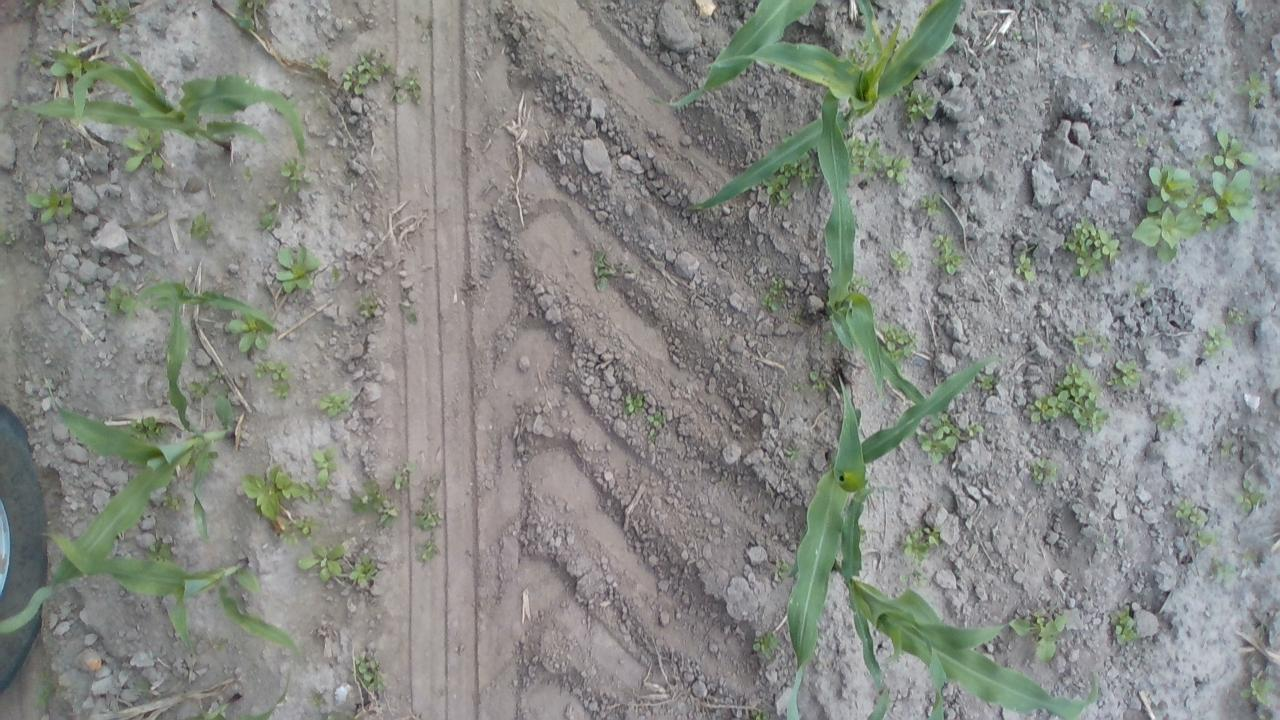Maize: (786, 358, 1010, 720), (1, 298, 234, 631), (685, 0, 962, 206), (828, 558, 1098, 720), (820, 83, 929, 410), (0, 47, 308, 160), (34, 530, 302, 658), (645, 0, 857, 110), (820, 624, 949, 720), (123, 281, 277, 329), (167, 666, 290, 720)
Weeds: (1131, 164, 1206, 264), (1026, 363, 1110, 435), (1060, 216, 1122, 278), (1206, 169, 1255, 232), (1009, 611, 1067, 663), (917, 414, 960, 466), (266, 464, 318, 503), (276, 246, 320, 292), (122, 127, 165, 174), (342, 52, 389, 94), (25, 184, 74, 224), (296, 544, 346, 582), (1212, 128, 1258, 169), (842, 134, 883, 178), (881, 324, 917, 374), (241, 474, 279, 520), (900, 526, 946, 564), (230, 312, 272, 351), (278, 515, 322, 547), (350, 476, 386, 514), (932, 232, 962, 276), (1235, 72, 1269, 110), (278, 158, 312, 194), (354, 654, 386, 692), (52, 42, 84, 80), (104, 282, 138, 317), (92, 0, 130, 31), (124, 417, 173, 441), (311, 447, 338, 490), (902, 90, 936, 124), (1110, 604, 1138, 644), (32, 670, 58, 712), (143, 532, 176, 564), (1202, 324, 1231, 360), (1107, 360, 1141, 390), (1234, 479, 1264, 513), (761, 173, 791, 207), (1071, 330, 1109, 356), (414, 498, 443, 532), (1175, 500, 1208, 529), (1241, 677, 1274, 706), (318, 390, 352, 418), (760, 276, 786, 312), (391, 75, 422, 105), (592, 250, 614, 292), (752, 630, 781, 661), (845, 37, 874, 68), (350, 554, 378, 586), (1030, 458, 1061, 486), (883, 154, 911, 185), (798, 148, 818, 188), (82, 58, 110, 86), (393, 463, 418, 492), (188, 212, 212, 242), (254, 359, 288, 380), (900, 564, 928, 589), (1154, 409, 1184, 432), (356, 291, 380, 319), (1113, 10, 1140, 34), (1015, 250, 1035, 281), (1212, 558, 1236, 583), (919, 192, 944, 216), (1094, 0, 1118, 25), (259, 200, 277, 230), (1191, 531, 1219, 549), (275, 98, 302, 116), (234, 10, 256, 32), (1256, 172, 1280, 192), (160, 493, 185, 512), (809, 370, 831, 391), (890, 250, 911, 272), (623, 393, 644, 414), (130, 677, 152, 697), (418, 540, 438, 561), (377, 507, 397, 527), (268, 381, 290, 399), (188, 380, 208, 399), (322, 710, 360, 720), (772, 559, 789, 581), (0, 228, 19, 247), (1226, 308, 1246, 326), (780, 159, 799, 177), (893, 81, 913, 98), (848, 272, 869, 288), (978, 374, 998, 390), (1130, 282, 1149, 298), (784, 443, 801, 460), (311, 691, 327, 709), (27, 53, 45, 69), (234, 0, 266, 9), (311, 54, 329, 70), (646, 412, 666, 426), (1219, 439, 1235, 456), (1196, 153, 1212, 170), (1174, 365, 1192, 380), (824, 327, 838, 345), (750, 708, 771, 720), (206, 368, 224, 382), (967, 422, 983, 436), (1242, 550, 1258, 564), (330, 265, 342, 283), (42, 377, 56, 390), (858, 523, 867, 543), (212, 638, 228, 649), (646, 428, 657, 443), (321, 493, 334, 504), (405, 312, 418, 323), (241, 166, 251, 180), (893, 38, 905, 49), (60, 138, 71, 150), (47, 0, 60, 10), (1012, 29, 1023, 40), (60, 287, 72, 297), (143, 271, 155, 281), (216, 388, 228, 398), (1205, 90, 1215, 102), (780, 134, 791, 144), (1136, 136, 1146, 147), (208, 450, 218, 459), (794, 384, 806, 391), (1193, 0, 1202, 5), (720, 476, 726, 481)
